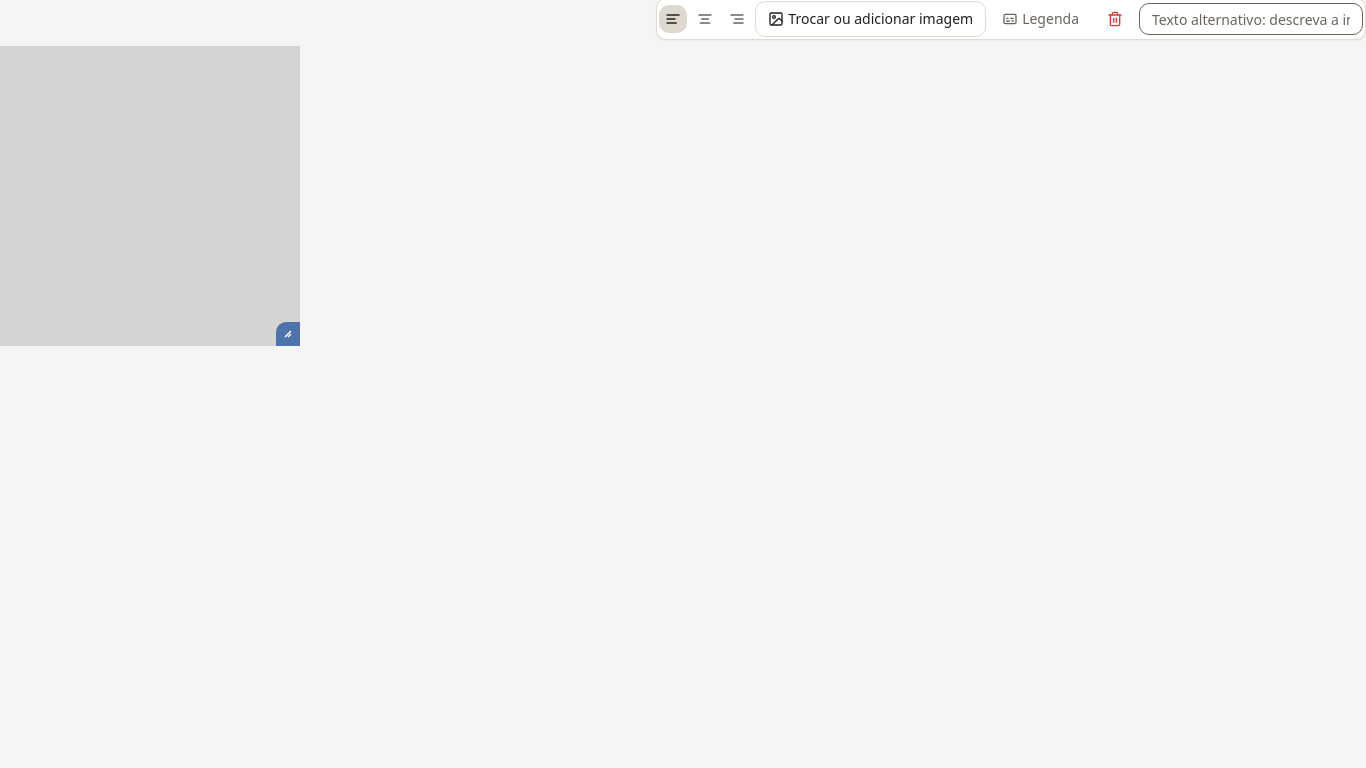
Test case: ImageNodeView › mantém a imagem quando a confirmação é cancelada (achado 0351)
The width and height of the screenshot is (1366, 768).
Click the button named "Excluir imagem" at x=1115, y=19, box [1095,1,1135,37]
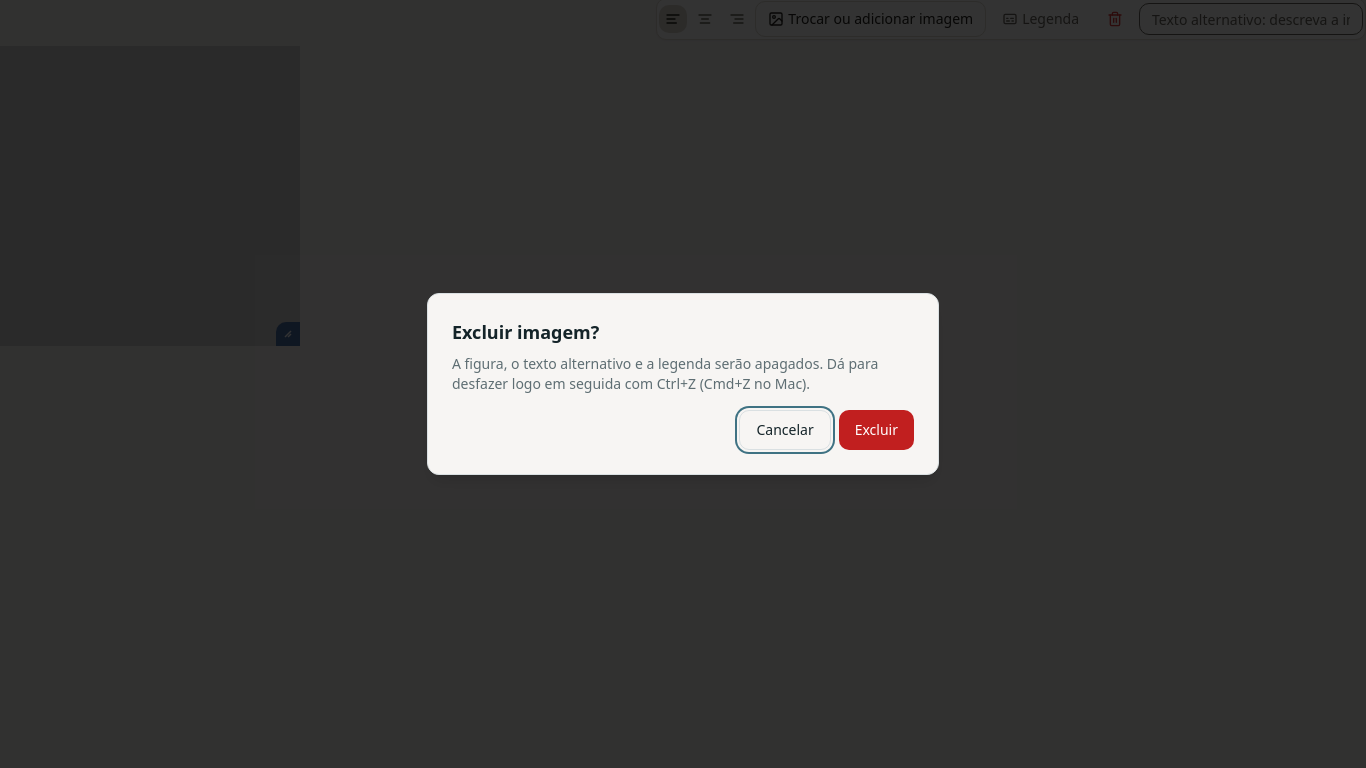
Click the button "Cancelar" at x=785, y=430, box [740,410,831,450]
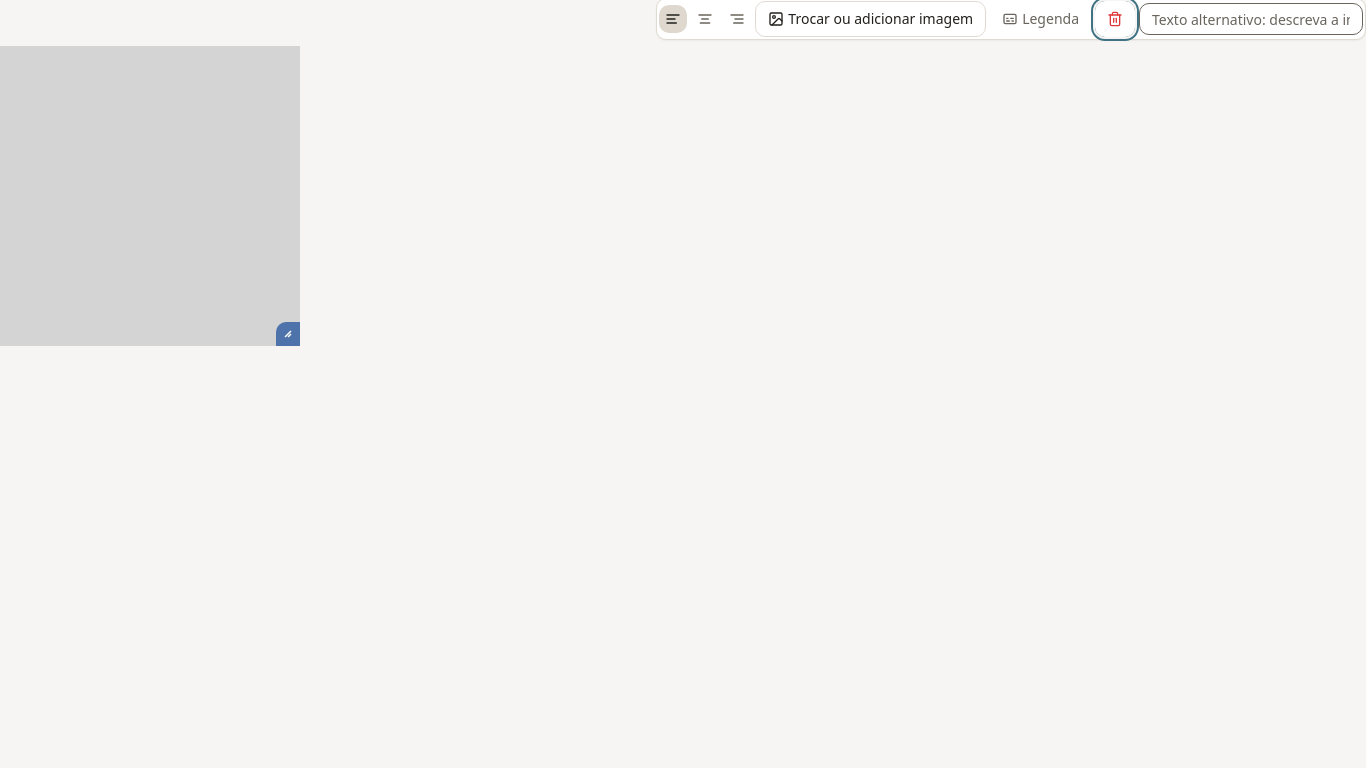
Expected: the dialog is gone
